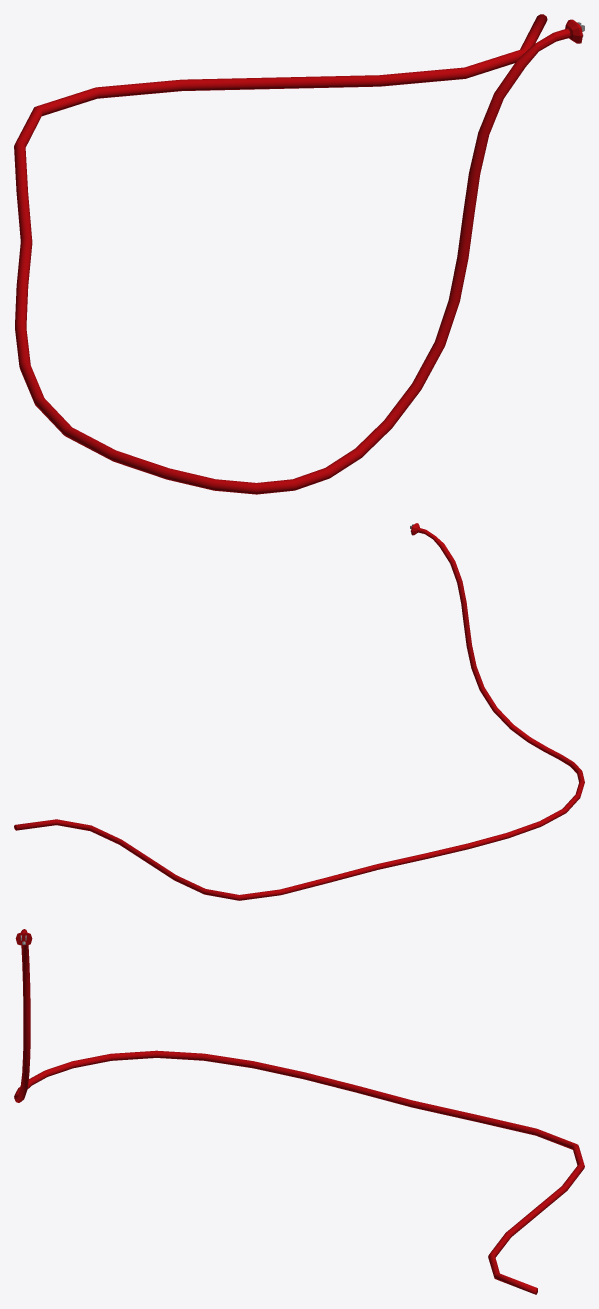
The model's file is Cable pal generador.fbx.
The picture shows the model from 3 angles, top to bottom: view 1: azimuth 30°, elevation 25°; view 2: azimuth 150°, elevation 25°; view 3: azimuth 270°, elevation 25°; orthographic projection. The views are drawn at different scales.
Visible parts, largest first — view 1: Circle.003; view 2: Circle.003; view 3: Circle.003.
Boxes of the visible parts, x1=… form: Circle.003: x1=14, y1=14, x2=584, y2=494; Circle.003: x1=14, y1=523, x2=584, y2=900; Circle.003: x1=14, y1=929, x2=584, y2=1294.
Size of the model in its own units: 151 by 72.97 by 152.
